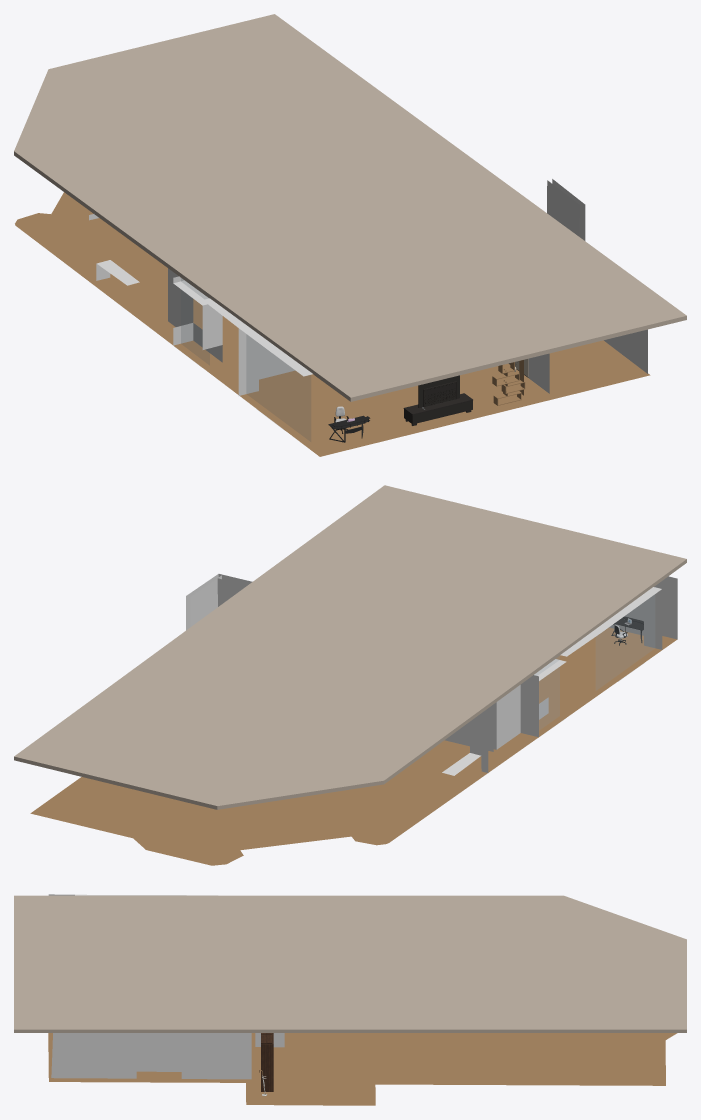
Rendered from AAELS-mobile-balanced.glb.
3 renders of one model, top to bottom at view 1: azimuth 30°, elevation 25°; view 2: azimuth 150°, elevation 25°; view 3: azimuth 270°, elevation 25°, orthographic. The views are drawn at different scales.
Parts seen in each view (by area): view 1: AAELS_MOBILE_VISIBLE_ARCHITECTURE, AAELS_MOBILE_VISIBLE_DECOR; view 2: AAELS_MOBILE_VISIBLE_ARCHITECTURE, AAELS_MOBILE_VISIBLE_DECOR; view 3: AAELS_MOBILE_VISIBLE_ARCHITECTURE, AAELS_MOBILE_VISIBLE_DECOR.
Boxes of the visible parts, bbox=[...] form: AAELS_MOBILE_VISIBLE_ARCHITECTURE: bbox=[14, 14, 686, 401]; AAELS_MOBILE_VISIBLE_DECOR: bbox=[15, 179, 650, 456]; AAELS_MOBILE_VISIBLE_ARCHITECTURE: bbox=[14, 485, 686, 809]; AAELS_MOBILE_VISIBLE_DECOR: bbox=[30, 574, 677, 865]; AAELS_MOBILE_VISIBLE_ARCHITECTURE: bbox=[14, 895, 686, 1032]; AAELS_MOBILE_VISIBLE_DECOR: bbox=[48, 894, 677, 1105].
Bounding box in the file's own units: 11.65 × 2.05 × 21.27.
Materials: 39 (18 with a texture image).
